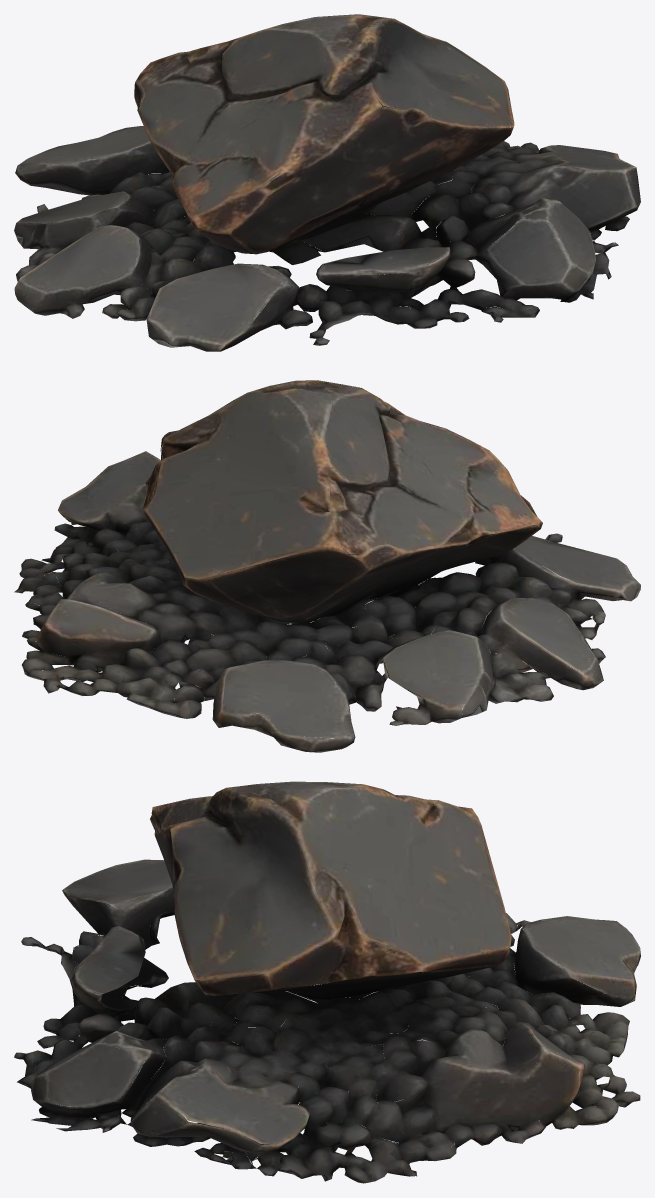
Rendered from roca3.glb.
3 renders of one model, top to bottom at view 1: azimuth 30°, elevation 25°; view 2: azimuth 150°, elevation 25°; view 3: azimuth 270°, elevation 25°, orthographic. The views are drawn at different scales.
Parts seen in each view (by area): view 1: geometry_0; view 2: geometry_0; view 3: geometry_0.
Boxes of the visible parts, box(x1,y1,x2,y2) form: geometry_0: box(14, 14, 640, 351); geometry_0: box(14, 380, 640, 752); geometry_0: box(14, 781, 640, 1183).
Bounding box in the file's own units: 1.2 × 0.4501 × 1.
Materials: 1 (1 with a texture image).
